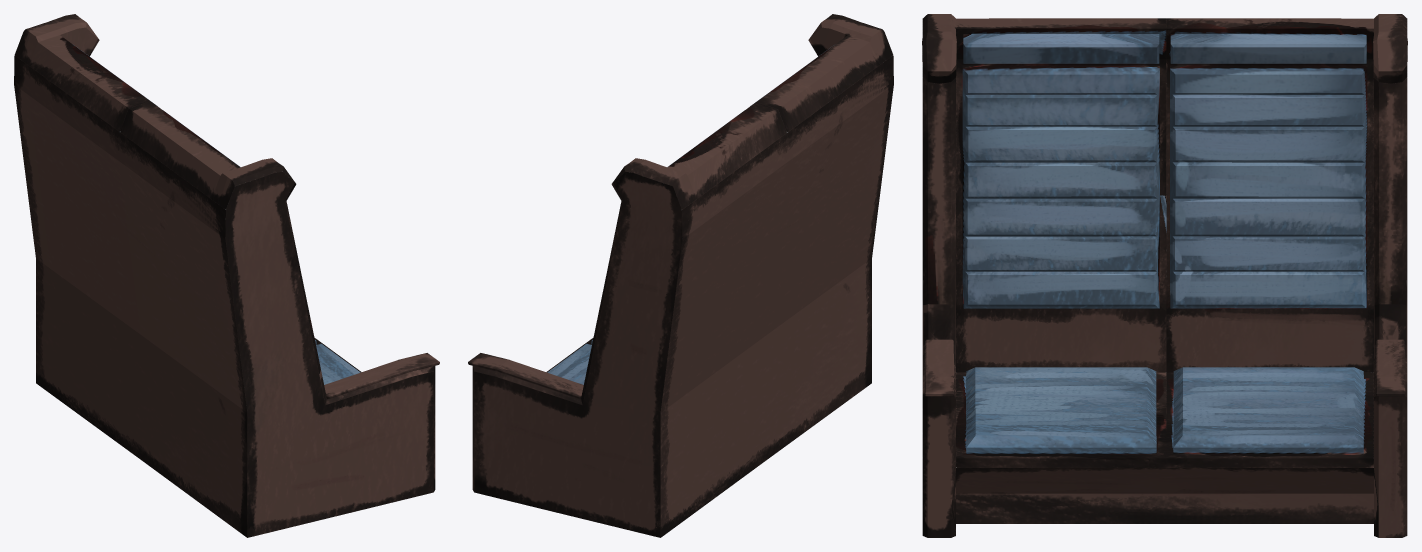
File: ChairTrain.fbx
3 views of the same model, side by side, from view 1: azimuth 30°, elevation 25°; view 2: azimuth 150°, elevation 25°; view 3: azimuth 270°, elevation 25° (orthographic). The views are drawn at different scales.
Parts seen in each view (by area): view 1: Cube; view 2: Cube; view 3: Cube.
Part boxes in pixels (x1,y1,x2,y2): Cube: [14, 14, 439, 537]; Cube: [468, 14, 893, 537]; Cube: [922, 14, 1407, 537].
Bounding box in the file's own units: 95.02 × 152 × 162.
